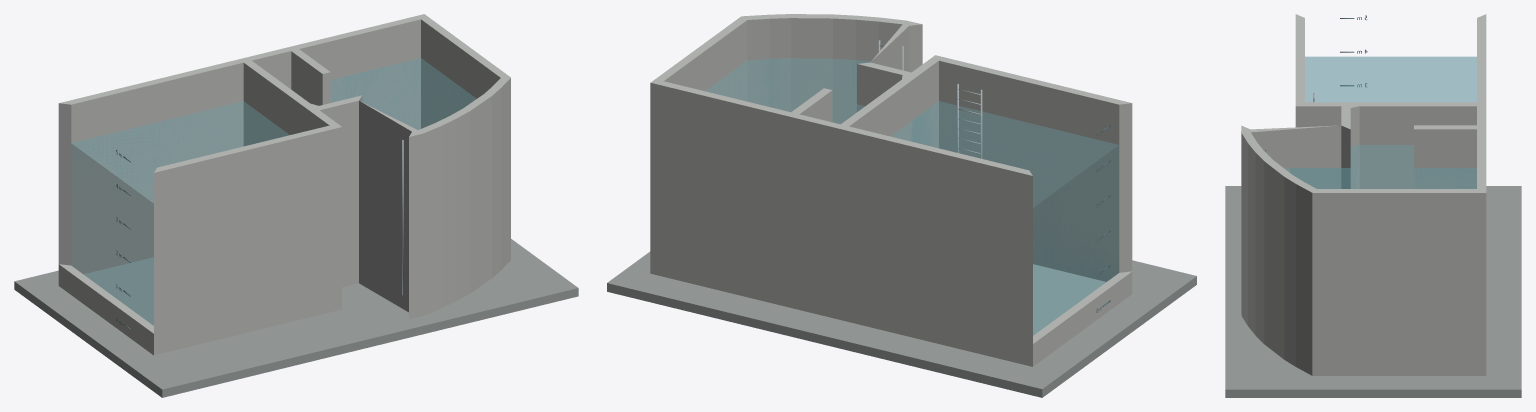
File: B04-reservoirs.glb
3 renders of one model, left to right at view 1: azimuth 30°, elevation 25°; view 2: azimuth 150°, elevation 25°; view 3: azimuth 270°, elevation 25°, orthographic. The views are drawn at different scales.
Parts seen in each view (by area): view 1: SOURCE FOOTPRINT | reservoir wall.006, SOURCE FOOTPRINT | reservoir wall.002, DISPLAY | neutral base, SOURCE WATER DEPTH4m | volume, SOURCE FOOTPRINT | reservoir wall.036, SOURCE FOOTPRINT | reservoir wall.013, SOURCE WATER DEPTH4m | volume.001, SOURCE FOOTPRINT | reservoir wall.016, SOURCE FOOTPRINT | reservoir wall.021, SOURCE FOOTPRINT | reservoir wall.008, SOURCE FOOTPRINT | reservoir wall.037, SOURCE FOOTPRINT | reservoir wall.028 (+12 smaller); view 2: SOURCE FOOTPRINT | reservoir wall.003, SOURCE FOOTPRINT | reservoir wall.014, SOURCE FOOTPRINT | reservoir wall.007, SOURCE WATER DEPTH4m | volume, DISPLAY | neutral base, SOURCE FOOTPRINT | reservoir wall.009, SOURCE WATER DEPTH4m | volume.001, SOURCE FOOTPRINT | reservoir wall.016, SOURCE FOOTPRINT | reservoir wall.022, SOURCE FOOTPRINT | reservoir wall, SOURCE | reservoir base, SOURCE FOOTPRINT | reservoir wall.005 (+12 smaller); view 3: SOURCE FOOTPRINT | reservoir wall.015, DISPLAY | neutral base, SOURCE WATER DEPTH4m | volume, SOURCE FOOTPRINT | reservoir wall.004, SOURCE WATER DEPTH4m | volume.001, SOURCE FOOTPRINT | reservoir wall.036, SOURCE FOOTPRINT | reservoir wall.021, SOURCE FOOTPRINT | reservoir wall.035, SOURCE FOOTPRINT | reservoir wall.017, SOURCE FOOTPRINT | reservoir wall.020, SOURCE FOOTPRINT | reservoir wall.023, SOURCE FOOTPRINT | reservoir wall.026 (+10 smaller).
Boxes of the visible parts, x1=… form: SOURCE FOOTPRINT | reservoir wall.006: x1=154, y1=125, x2=342, y2=355; SOURCE FOOTPRINT | reservoir wall.002: x1=58, y1=62, x2=243, y2=274; DISPLAY | neutral base: x1=14, y1=239, x2=578, y2=397; SOURCE WATER DEPTH4m | volume: x1=71, y1=101, x2=288, y2=325; SOURCE FOOTPRINT | reservoir wall.036: x1=359, y1=101, x2=417, y2=312; SOURCE FOOTPRINT | reservoir wall.013: x1=295, y1=19, x2=420, y2=129; SOURCE WATER DEPTH4m | volume.001: x1=330, y1=58, x2=476, y2=129; SOURCE FOOTPRINT | reservoir wall.016: x1=421, y1=19, x2=510, y2=128; SOURCE FOOTPRINT | reservoir wall.021: x1=470, y1=94, x2=491, y2=292; SOURCE FOOTPRINT | reservoir wall.008: x1=243, y1=62, x2=303, y2=146; SOURCE FOOTPRINT | reservoir wall.037: x1=318, y1=100, x2=358, y2=287; SOURCE FOOTPRINT | reservoir wall.028: x1=418, y1=126, x2=441, y2=315; SOURCE FOOTPRINT | reservoir wall.003: x1=836, y1=126, x2=1032, y2=366; SOURCE FOOTPRINT | reservoir wall.014: x1=650, y1=81, x2=786, y2=306; SOURCE FOOTPRINT | reservoir wall.007: x1=939, y1=60, x2=1132, y2=281; SOURCE WATER DEPTH4m | volume: x1=891, y1=101, x2=1119, y2=335; DISPLAY | neutral base: x1=607, y1=251, x2=1196, y2=397; SOURCE FOOTPRINT | reservoir wall.009: x1=794, y1=118, x2=840, y2=318; SOURCE WATER DEPTH4m | volume.001: x1=706, y1=58, x2=870, y2=123; SOURCE FOOTPRINT | reservoir wall.016: x1=664, y1=16, x2=747, y2=101; SOURCE FOOTPRINT | reservoir wall.022: x1=791, y1=14, x2=833, y2=121; SOURCE FOOTPRINT | reservoir wall: x1=1033, y1=271, x2=1132, y2=366; SOURCE | reservoir base: x1=1033, y1=264, x2=1105, y2=335; SOURCE FOOTPRINT | reservoir wall.005: x1=851, y1=55, x2=938, y2=148; SOURCE FOOTPRINT | reservoir wall.015: x1=1312, y1=189, x2=1486, y2=375; DISPLAY | neutral base: x1=1225, y1=186, x2=1521, y2=397; SOURCE WATER DEPTH4m | volume: x1=1305, y1=56, x2=1476, y2=102; SOURCE FOOTPRINT | reservoir wall.004: x1=1295, y1=103, x2=1484, y2=188; SOURCE WATER DEPTH4m | volume.001: x1=1285, y1=145, x2=1476, y2=188; SOURCE FOOTPRINT | reservoir wall.036: x1=1250, y1=125, x2=1341, y2=188; SOURCE FOOTPRINT | reservoir wall.021: x1=1264, y1=161, x2=1291, y2=359; SOURCE FOOTPRINT | reservoir wall.035: x1=1414, y1=125, x2=1476, y2=188; SOURCE FOOTPRINT | reservoir wall.017: x1=1296, y1=184, x2=1316, y2=375; SOURCE FOOTPRINT | reservoir wall.020: x1=1284, y1=174, x2=1295, y2=366; SOURCE FOOTPRINT | reservoir wall.023: x1=1255, y1=153, x2=1271, y2=343; SOURCE FOOTPRINT | reservoir wall.026: x1=1248, y1=142, x2=1256, y2=335.
Size of the model in its own units: 13 by 5.76 by 8.
